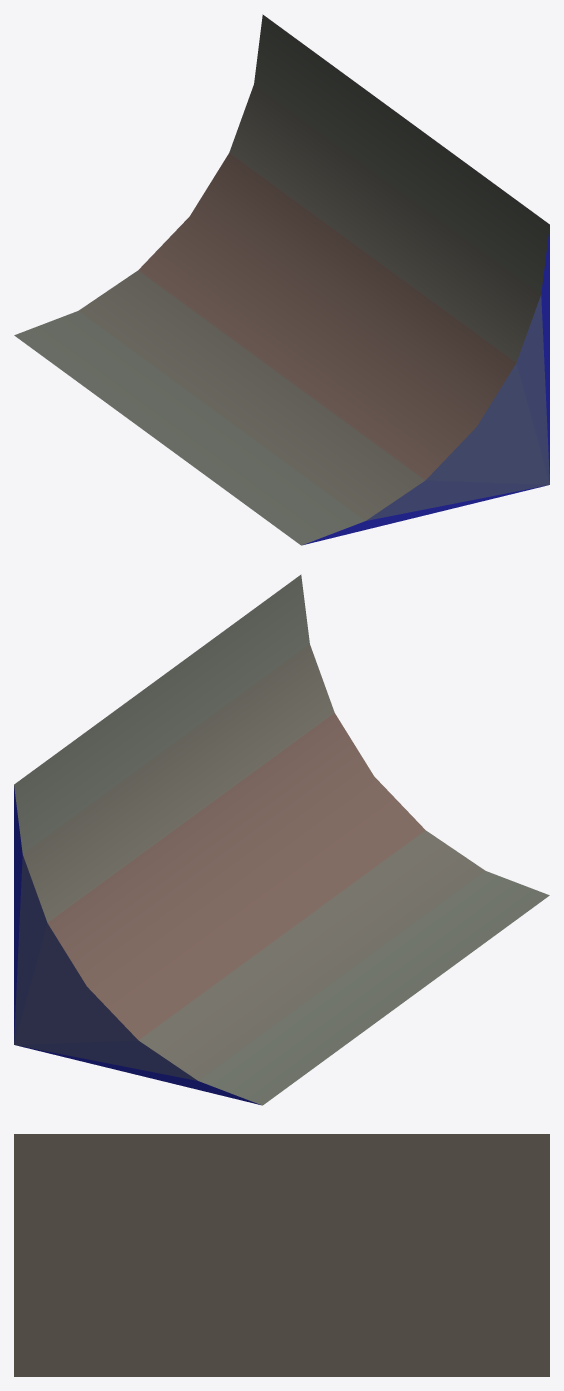
File: Halfpipe_half.fbx
3 renders of one model, top to bottom at view 1: azimuth 30°, elevation 25°; view 2: azimuth 150°, elevation 25°; view 3: azimuth 270°, elevation 25°, orthographic. The views are drawn at different scales.
Visible parts, largest first — view 1: Mesh; view 2: Mesh; view 3: Mesh.
Part boxes in pixels (x1,y1,x2,y2): Mesh: [14, 14, 549, 545]; Mesh: [14, 574, 549, 1105]; Mesh: [14, 1134, 549, 1376].
Bounding box in the file's own units: 50 × 50 × 100.
